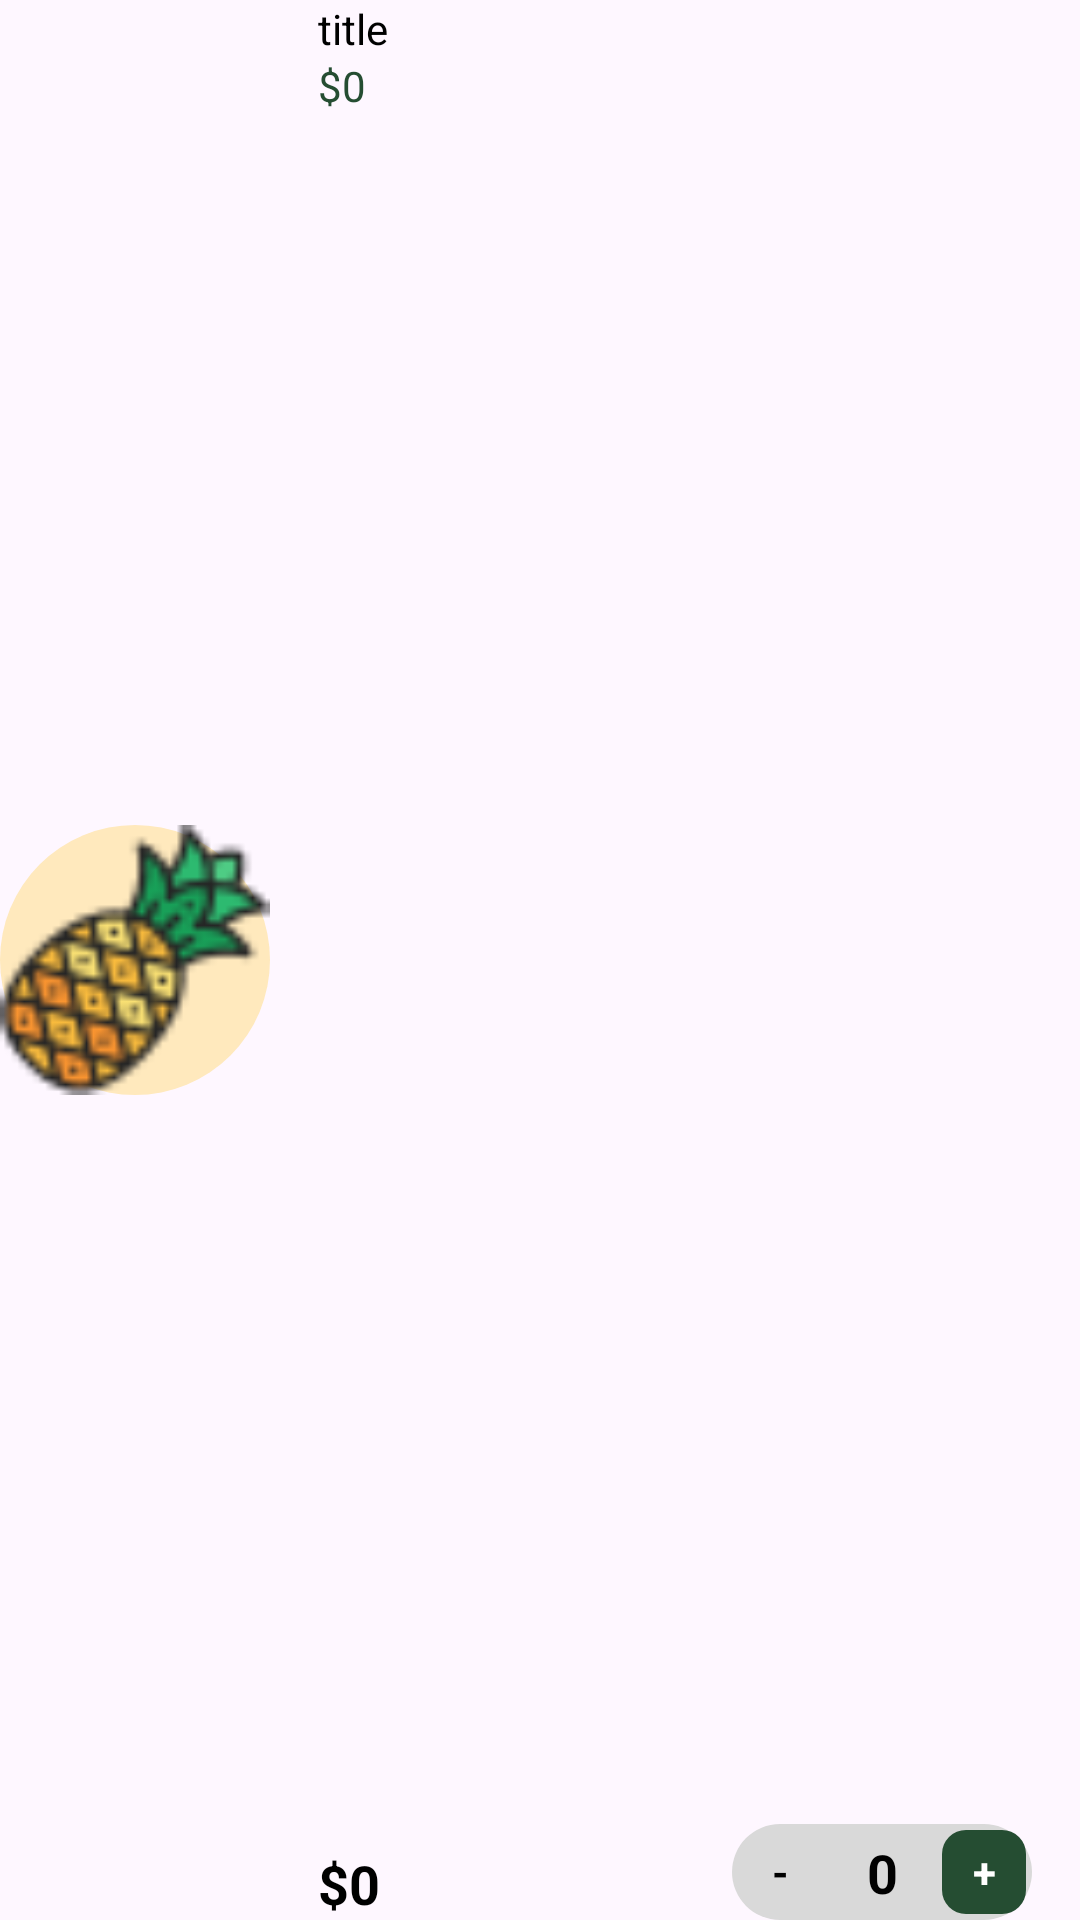

Where icons sit on this 1080px x 1920px app screen, as [x1=x1, y1=y1, x2=x2, y2=y2]:
fruit: [x1=0, y1=825, x2=270, y2=1095]
